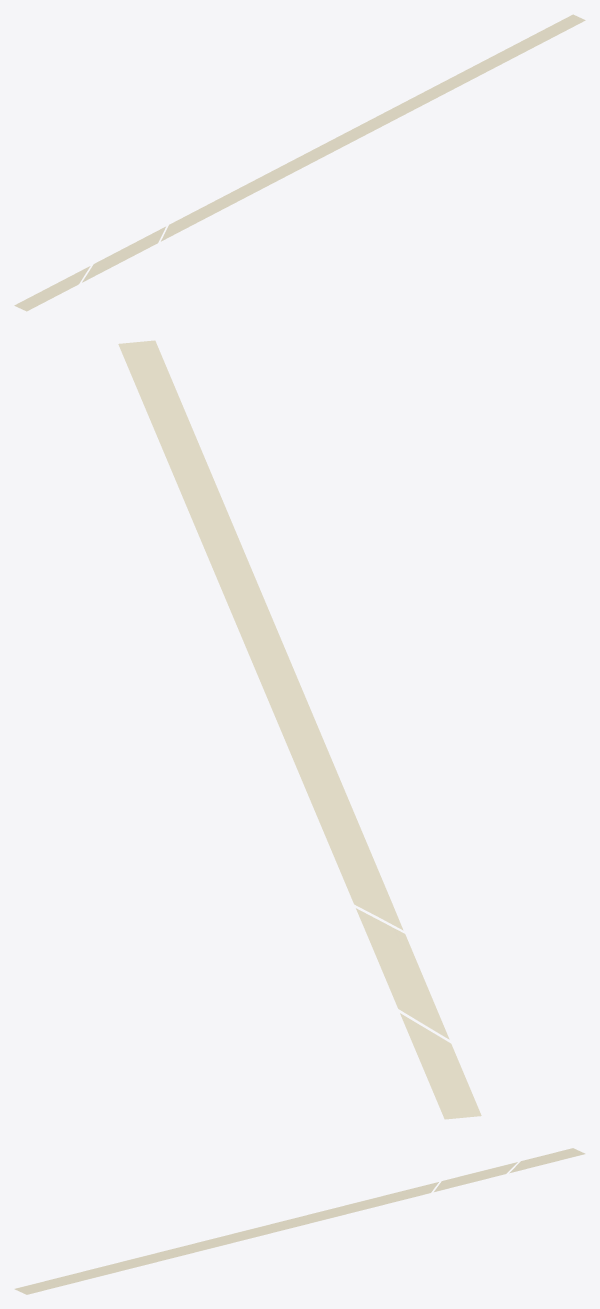
File: transport--3--2.glb
The picture shows the model from 3 angles, top to bottom: view 1: azimuth 90°, elevation 25°; view 2: azimuth 150°, elevation 25°; view 3: azimuth 270°, elevation 25°; orthographic projection. The views are drawn at different scales.
Visible parts, largest first — view 1: ElevatedRoads_Details; view 2: ElevatedRoads_Details; view 3: ElevatedRoads_Details.
Part boxes in pixels (x1,y1,x2,y2): ElevatedRoads_Details: (14, 14, 585, 311); ElevatedRoads_Details: (118, 340, 481, 1119); ElevatedRoads_Details: (14, 1148, 585, 1294).
Bounding box in the file's own units: 0.0832 × 0.0131 × 0.0906.
